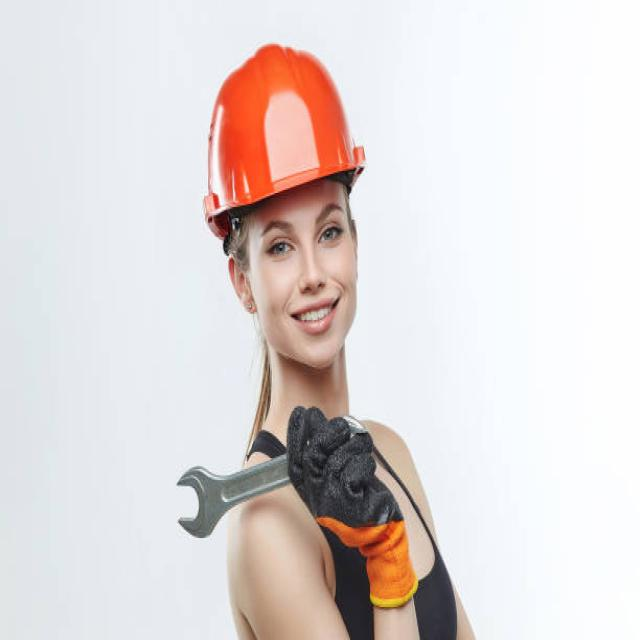Gloves: (287, 401, 423, 614)
helmet: (200, 39, 367, 242)
person: (172, 37, 479, 640)
